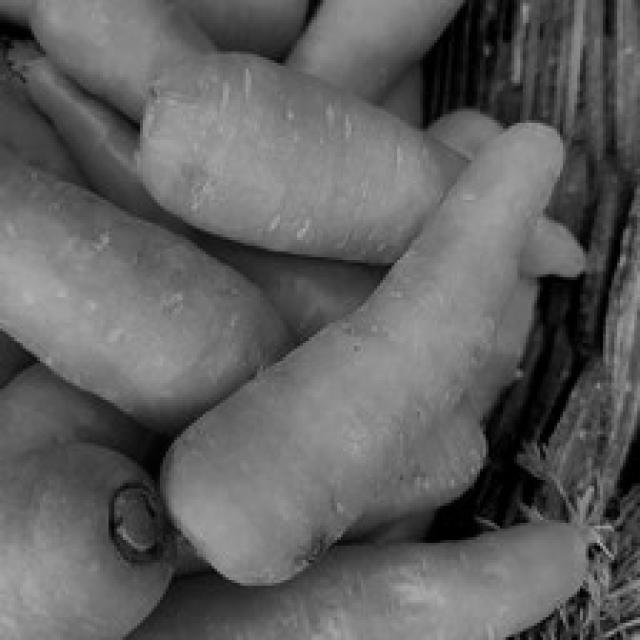Fresh_Carrot: (157, 122, 568, 586)
